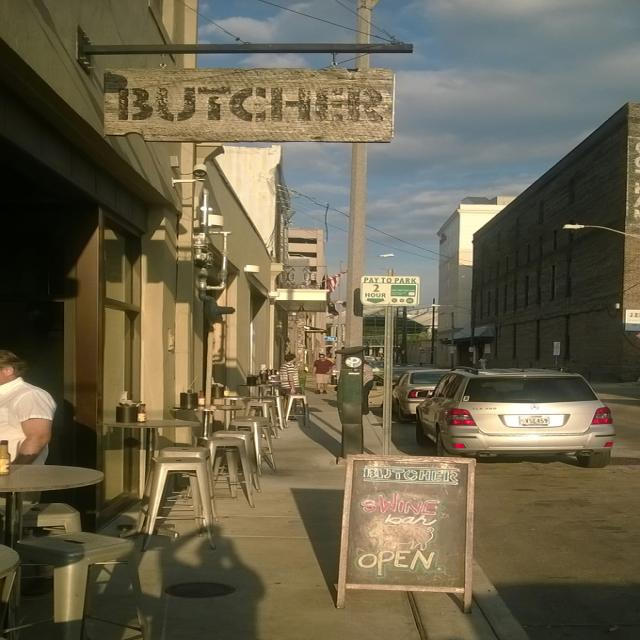car: (407, 366, 612, 468)
